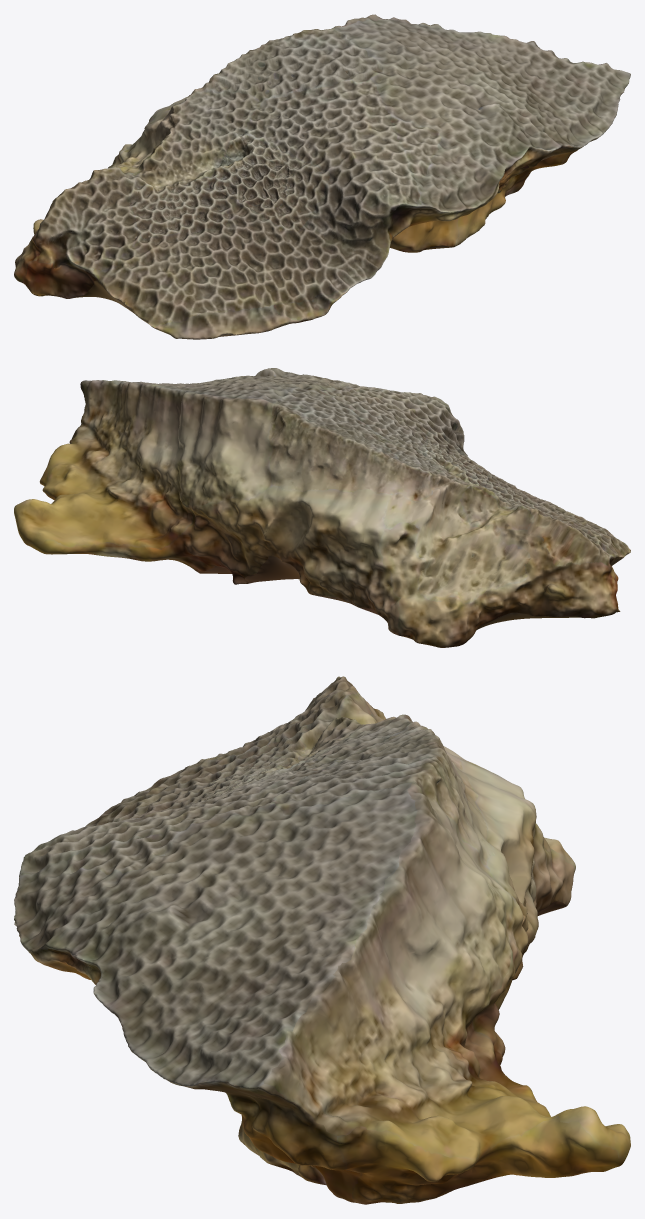
Rendered from gardineroseris_planulata_compressed.glb.
The picture shows the model from 3 angles, top to bottom: view 1: azimuth 30°, elevation 25°; view 2: azimuth 150°, elevation 25°; view 3: azimuth 270°, elevation 25°; orthographic projection. The views are drawn at different scales.
Parts seen in each view (by area): view 1: Object_3, Object_2; view 2: Object_3, Object_2; view 3: Object_3.
Part boxes in pixels (x1=…): Object_3: x1=14, y1=14, x2=630, y2=339; Object_2: x1=46, y1=240, x2=451, y2=339; Object_3: x1=14, y1=368, x2=630, y2=647; Object_2: x1=145, y1=552, x2=630, y2=647; Object_3: x1=14, y1=676, x2=630, y2=1204.
Size of the model in its own units: 18.98 by 6.36 by 10.89.
Materials: 2 (2 with a texture image).
